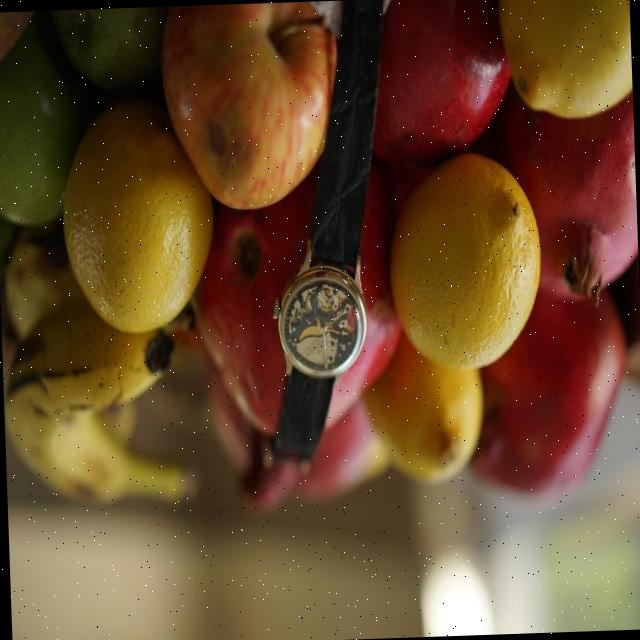apple: (158, 0, 336, 209)
banana: (3, 319, 191, 503)
